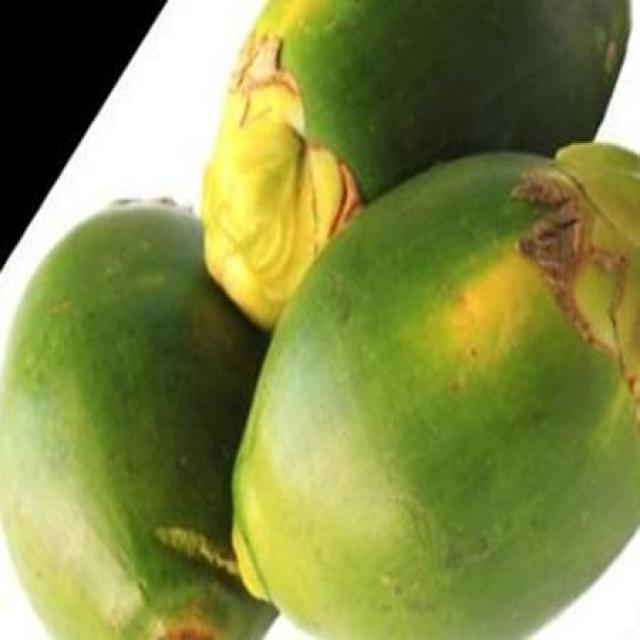good: (229, 143, 639, 638), (201, 0, 631, 288), (0, 202, 282, 638)
